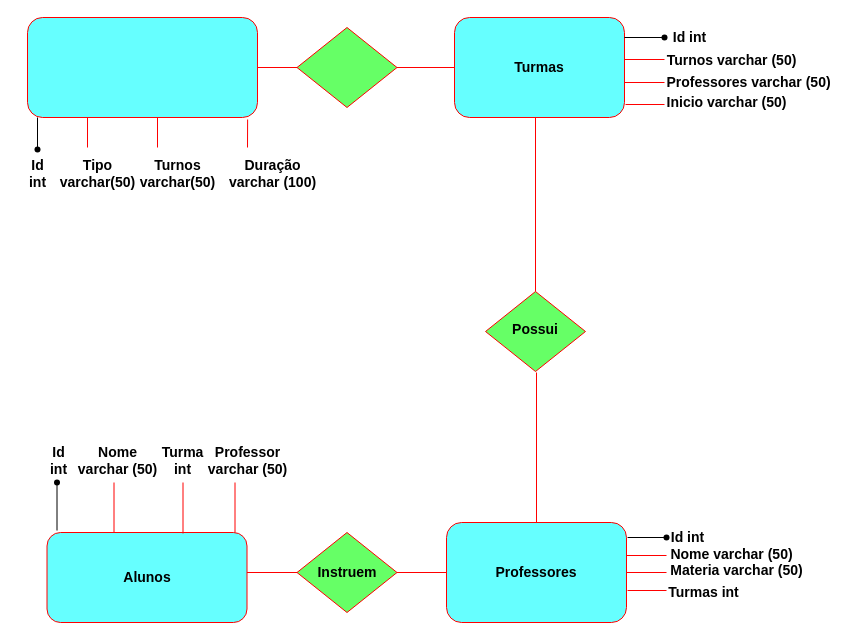
Image size: 860x640. Some labels were removed from this diagram. Each missing label, with the box of its shape:
Contem: (296, 26, 397, 108)
Cursos: (26, 16, 258, 118)
